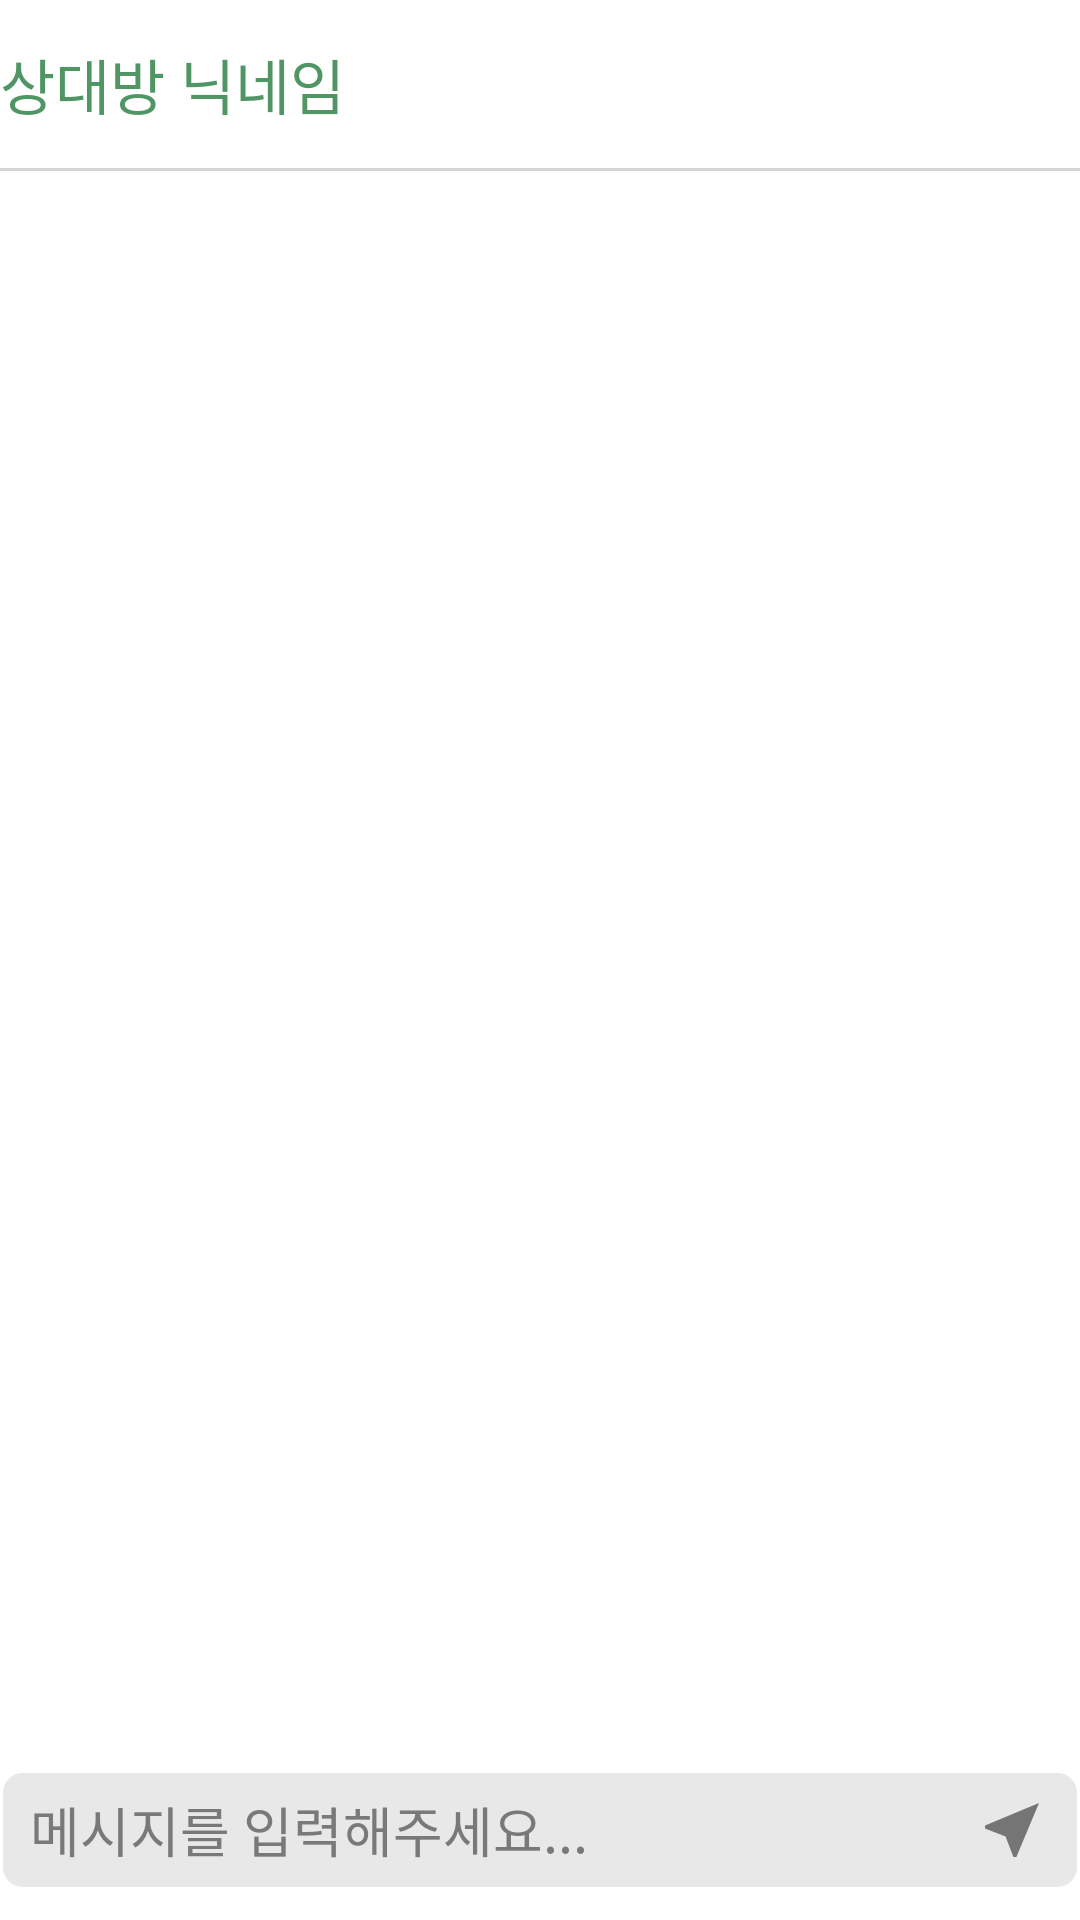

Named icons in this screenshot (1080w x 1920h) and their centers, [x,y]:
near me: [1012,1830]
